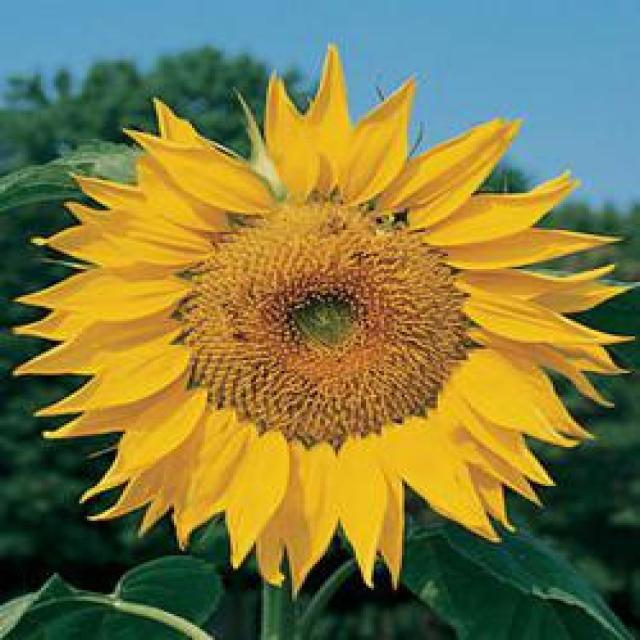sunflower: (7, 40, 640, 593)
